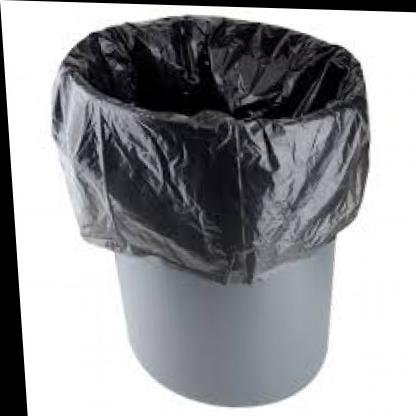Plastic: (32, 9, 388, 292)
